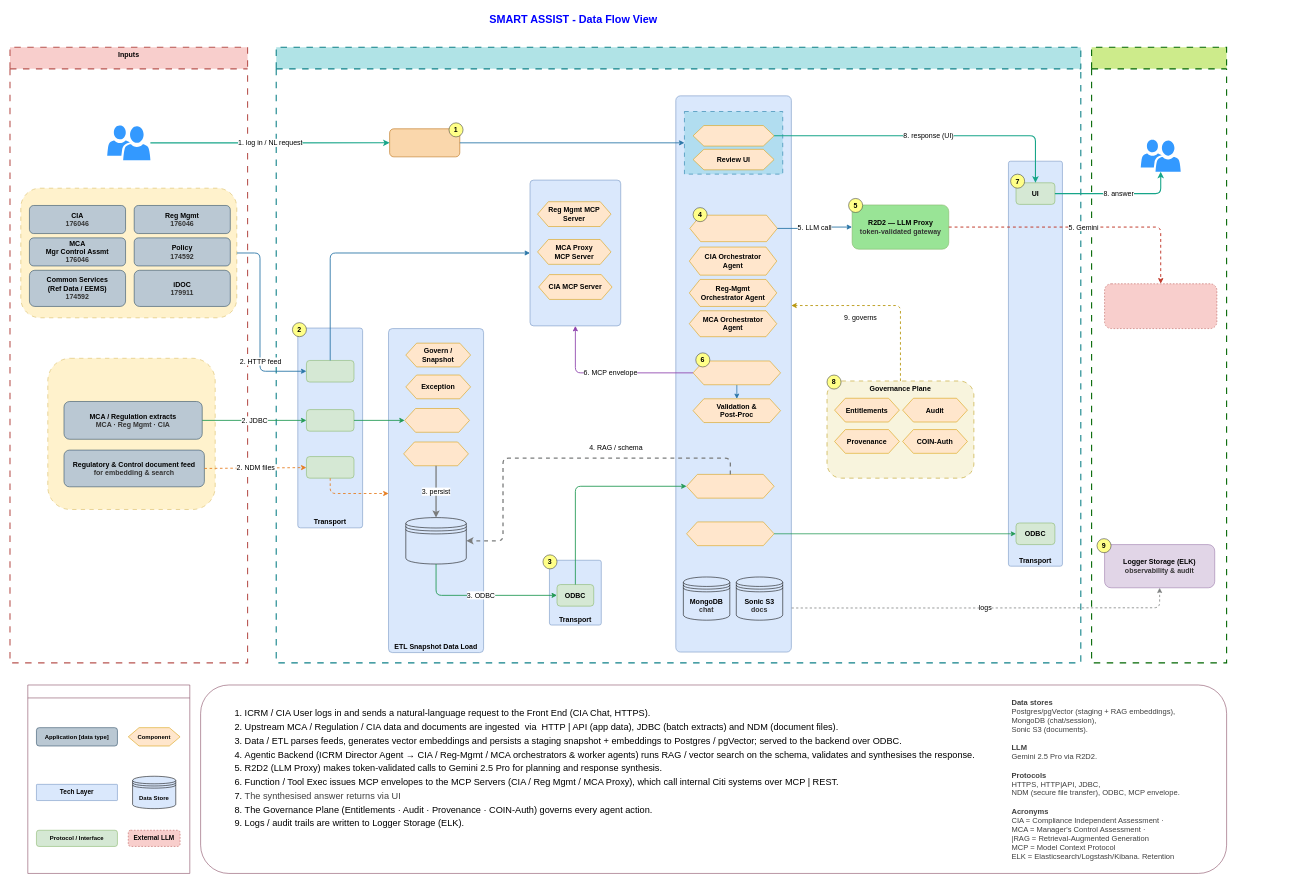
Some shapes in this 1295 by 883 pixel diagram are drawn without their labels. Here are the shapes that lost their labels. From the top down, the box of each, then its label:
(107, 125, 150, 160): CITI User ICRM / Compliance Analyst
(389, 128, 460, 157): Front End CIA Chat
(693, 125, 774, 146): Chat UI
(684, 111, 783, 174): Agent UI
(1140, 139, 1180, 172): CITI User Business / Reg-Mgmt User
(689, 215, 777, 242): ICRM Director-Agent
(20, 188, 237, 318): Citi Apps
(529, 180, 621, 326): MCP Servers
(1104, 283, 1217, 329): Gemini 2.5 Pro External LLM · via R2D2
(306, 360, 354, 382): HTTPS API
(275, 46, 1081, 663): Processing - App ID 176046 (ARC Agent · Smart Assist)
(675, 95, 791, 652): Agentic Backend Services (ARC Agent)
(693, 360, 781, 385): Function / Tool Exec
(1091, 46, 1227, 663): Outputs
(47, 358, 215, 509): Batch Feeds / Documents
(306, 409, 354, 431): JDBC
(404, 408, 470, 432): Staging
(306, 456, 354, 478): NDM
(403, 441, 468, 466): Vector Embedding
(686, 474, 774, 498): RAG / Vector Search
(405, 517, 466, 564): Postgres / pgVector
(686, 521, 774, 546): Response Synthesis
(27, 684, 190, 873): Key
(200, 684, 1227, 873): Notes
